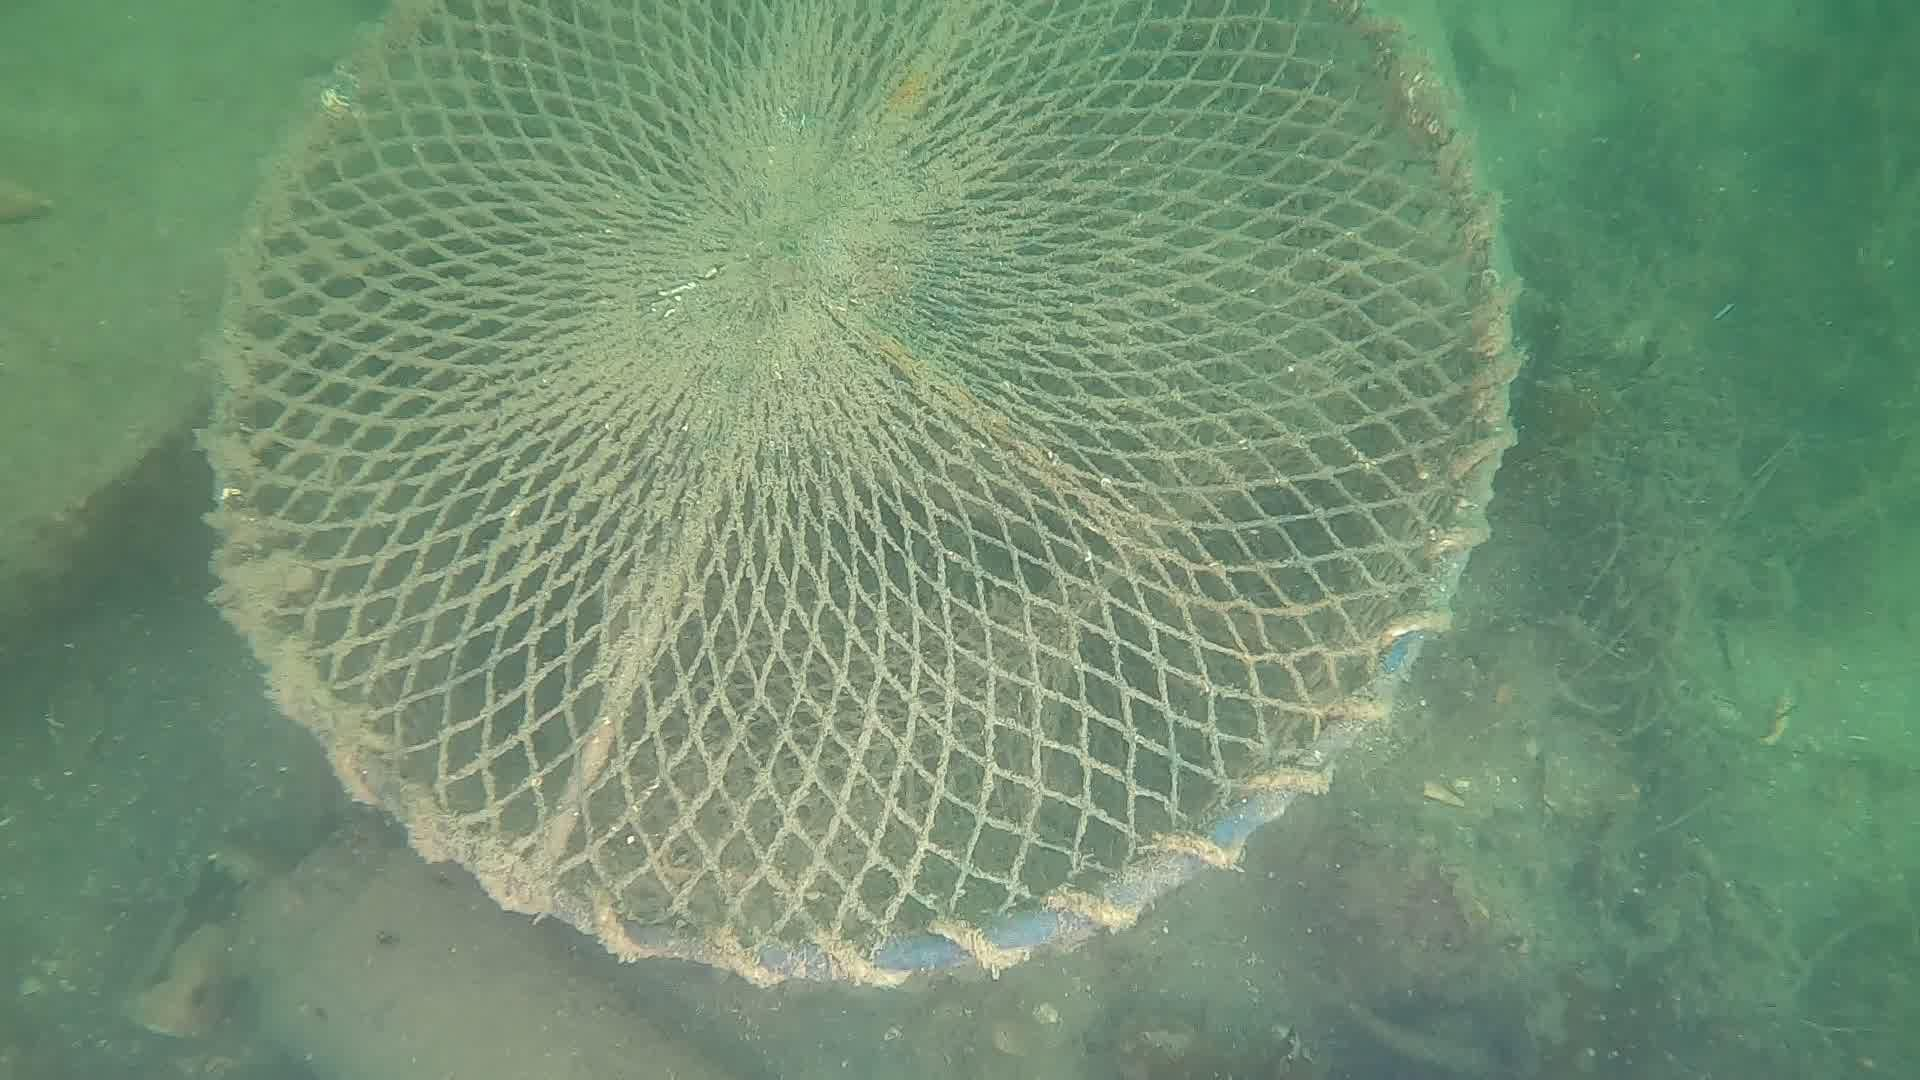circular fish trap: (207, 3, 1518, 977)
